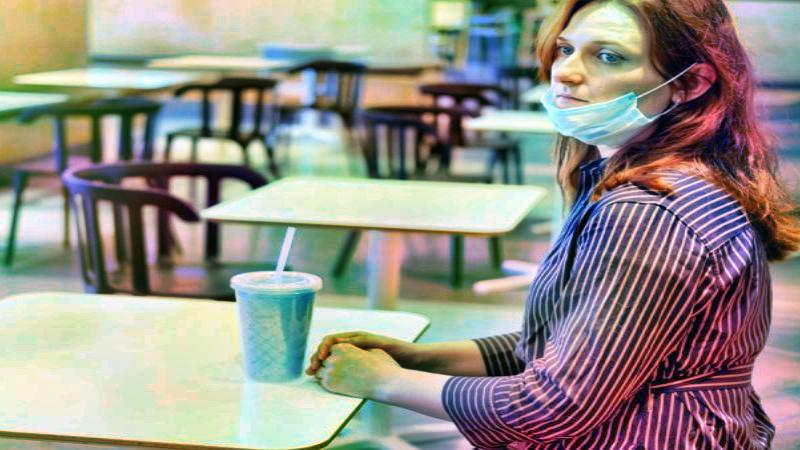mask_weared_incorrect: (542, 1, 746, 148)
